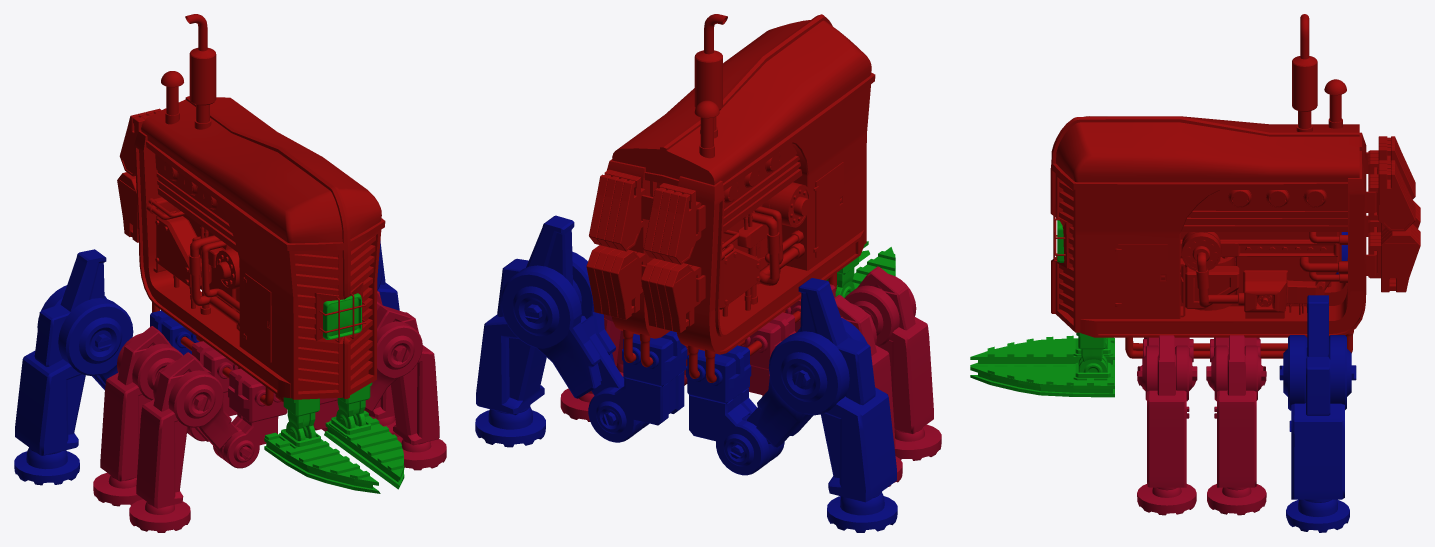
The picture shows the model from 3 angles, left to right: view 1: azimuth 30°, elevation 25°; view 2: azimuth 150°, elevation 25°; view 3: azimuth 270°, elevation 25°; orthographic projection. The views are drawn at different scales.
Parts seen in each view (by area): view 1: pCylinder111, Object001, Object002, pCube100; view 2: pCylinder111, Object002, Object001, pCube100; view 3: pCylinder111, Object001, Object002, pCube100.
Part boxes in pixels (x1=…): pCylinder111: x1=117, y1=14, x2=385, y2=405; Object001: x1=93, y1=291, x2=446, y2=532; Object002: x1=14, y1=241, x2=399, y2=485; pCube100: x1=264, y1=293, x2=404, y2=493; pCylinder111: x1=586, y1=14, x2=875, y2=382; Object002: x1=475, y1=215, x2=897, y2=532; Object001: x1=560, y1=266, x2=941, y2=486; pCube100: x1=826, y1=241, x2=895, y2=297; pCylinder111: x1=1050, y1=14, x2=1420, y2=358; Object001: x1=1137, y1=258, x2=1266, y2=515; Object002: x1=1279, y1=232, x2=1356, y2=532; pCube100: x1=970, y1=220, x2=1114, y2=397.
Bounding box in the file's own units: 268 × 281 × 286.
